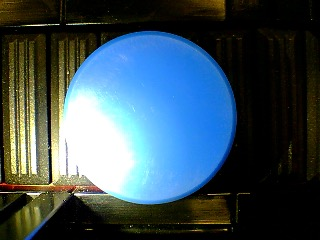BLANK: (62, 30, 238, 205)
